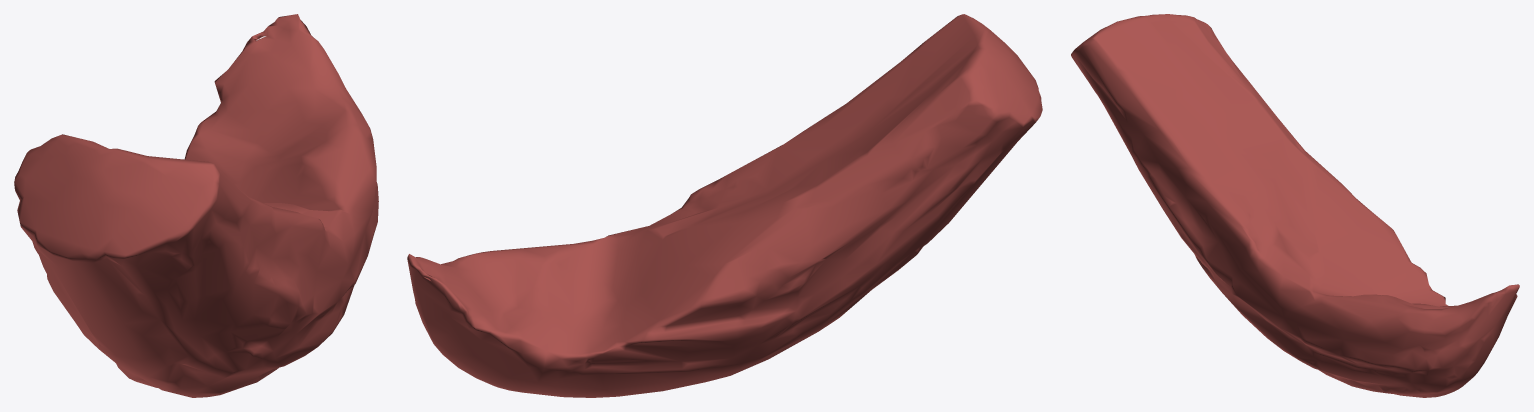
File: FMA49025.glb
3 views of the same model, side by side, from view 1: azimuth 30°, elevation 25°; view 2: azimuth 150°, elevation 25°; view 3: azimuth 270°, elevation 25° (orthographic). The views are drawn at different scales.
Parts seen in each view (by area): view 1: FMA49025; view 2: FMA49025; view 3: FMA49025.
Part boxes in pixels (x1,y1,x2,y2): FMA49025: (14, 14, 378, 397); FMA49025: (407, 14, 1042, 397); FMA49025: (1071, 14, 1519, 397).
Size of the model in its own units: 0.0205 by 0.0142 by 0.0217.
